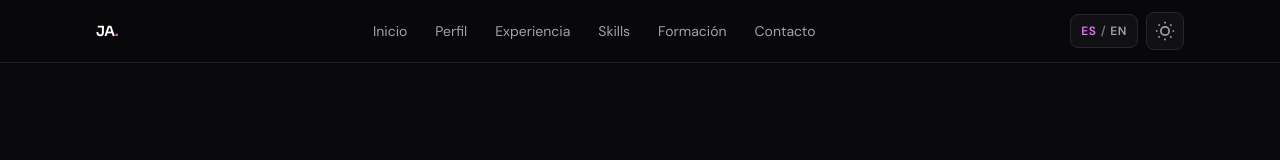
Test: Navbar › switches the locale and updates the UI strings
Click the button with aria-label "Cambiar a inglés".
click(1104, 31)  # box top-left (1070, 14), bottom-right (1138, 48)
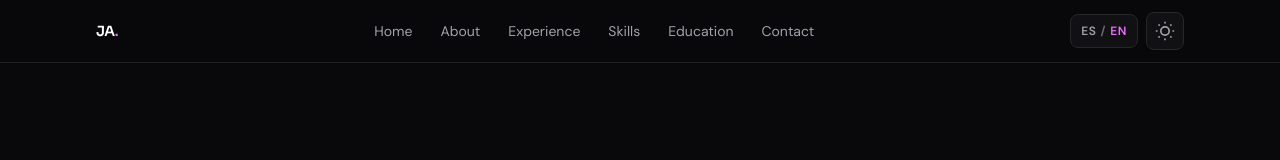
Now the button with aria-label "Switch to Spanish" is shown, box top-left (1070, 14), bottom-right (1138, 48)
